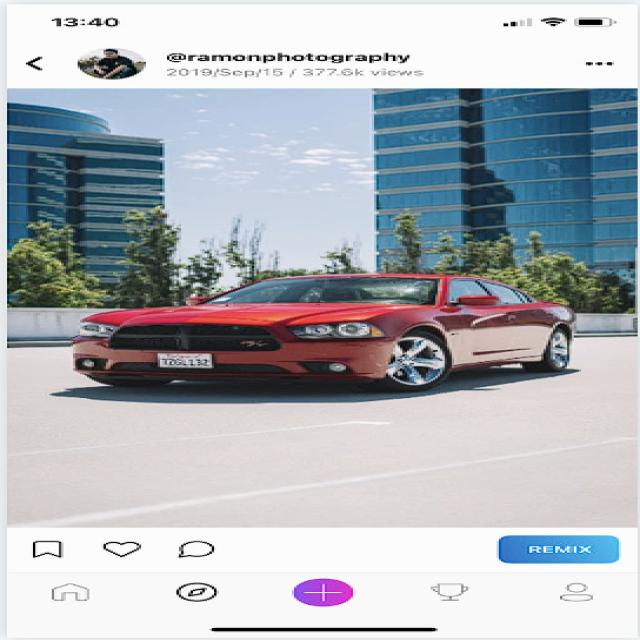button: (495, 532, 630, 568)
icon button: (280, 572, 371, 614), (39, 575, 122, 617), (159, 574, 240, 614), (415, 578, 494, 616), (539, 572, 616, 608), (1, 50, 70, 86), (160, 532, 230, 567), (562, 48, 640, 79), (18, 532, 87, 567), (92, 533, 157, 568)
text: (0, 87, 640, 530), (156, 47, 472, 83)
